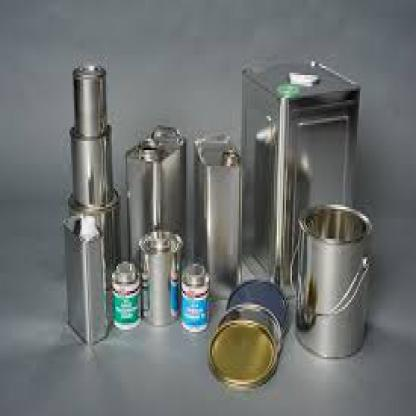METAL: (241, 59, 360, 300), (294, 202, 372, 359), (206, 280, 290, 391), (123, 127, 183, 273), (192, 130, 241, 300), (61, 216, 108, 341), (67, 191, 118, 286), (136, 227, 182, 325), (68, 122, 111, 204), (71, 64, 106, 132), (180, 261, 207, 332), (111, 262, 136, 330)
